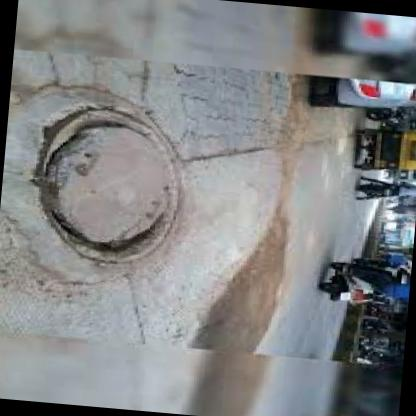manholes: (24, 96, 209, 282)
